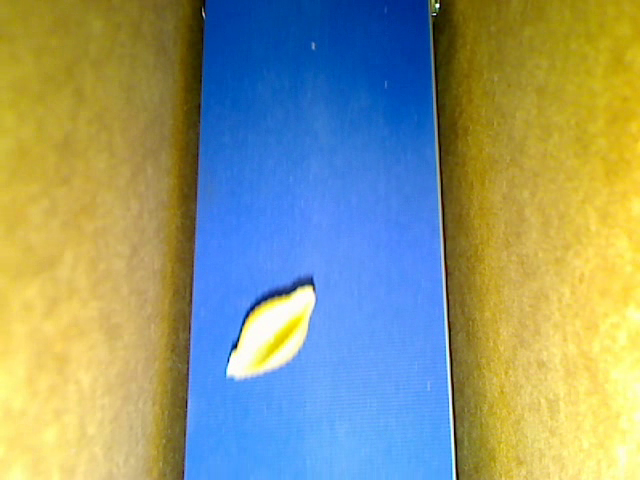shell: (226, 284, 314, 380)
